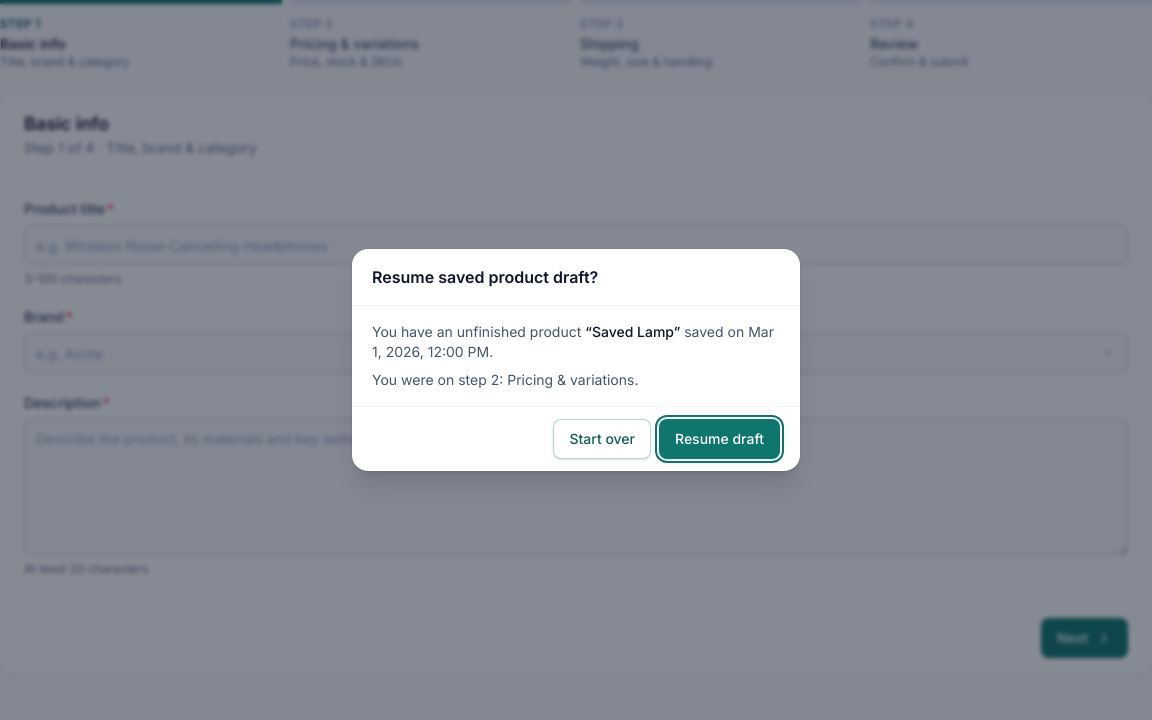
Test case: ProductWizard (integration) › offers to resume a saved draft and restores values and step
Expected: the text "“Saved Lamp”" is shown, x1=585 y1=323 x2=680 y2=340
Step 1. Click the button "Resume draft" → {"x": 720, "y": 439}, box x1=659 y1=419 x2=780 y2=459
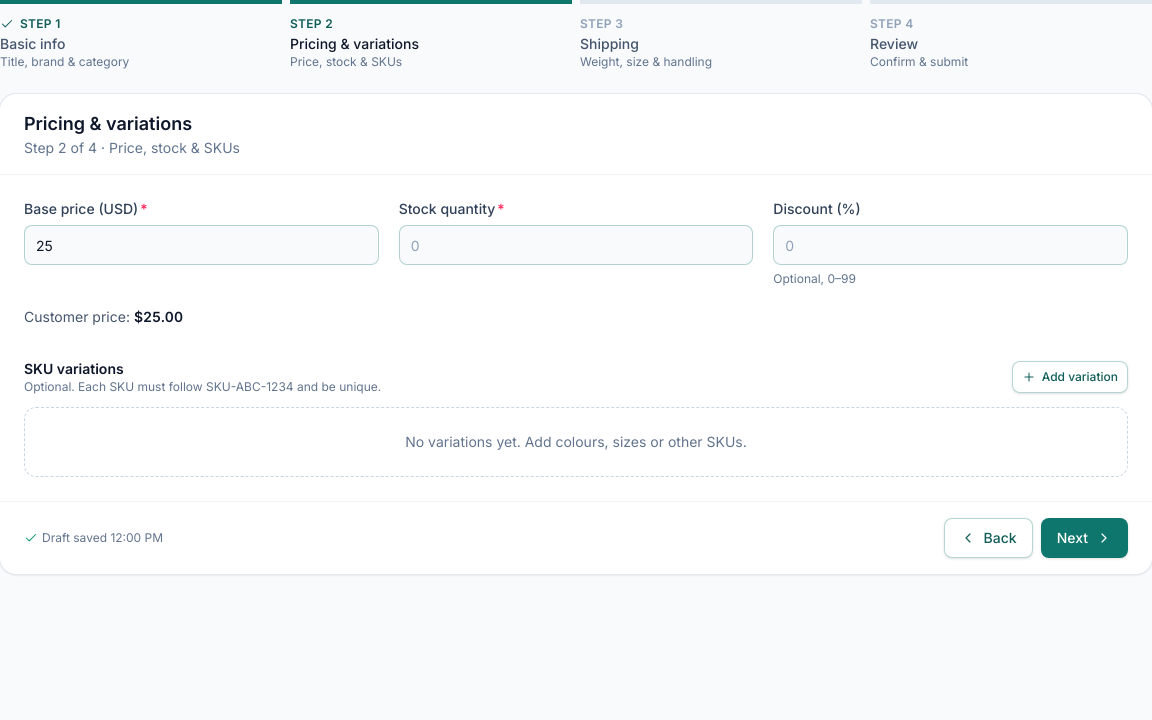
Now the dialog is gone
Now the heading "Pricing & variations" is shown, box x1=24 y1=113 x2=192 y2=134
Now the number field labelled "Base price (USD)*" holds "25", box x1=24 y1=225 x2=379 y2=265
Step 2. Click the button "Back" → {"x": 988, "y": 538}, box x1=944 y1=518 x2=1033 y2=558
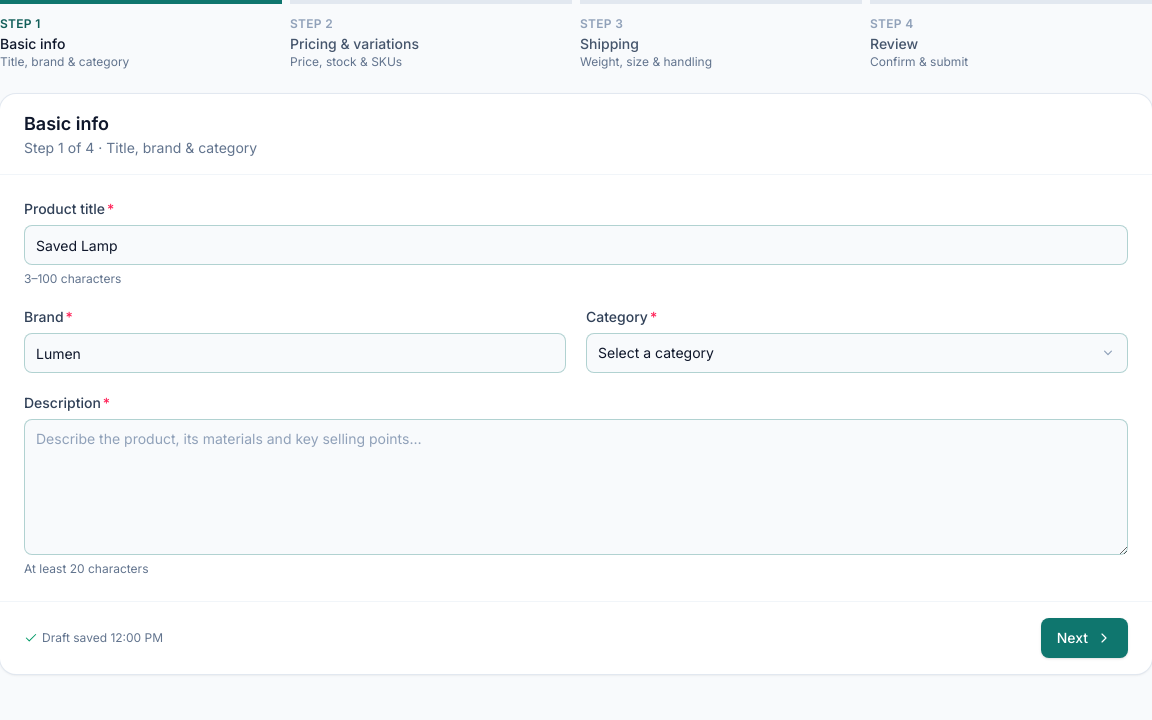
Now the field labelled "Product title*" holds "Saved Lamp", box x1=24 y1=225 x2=1128 y2=265
